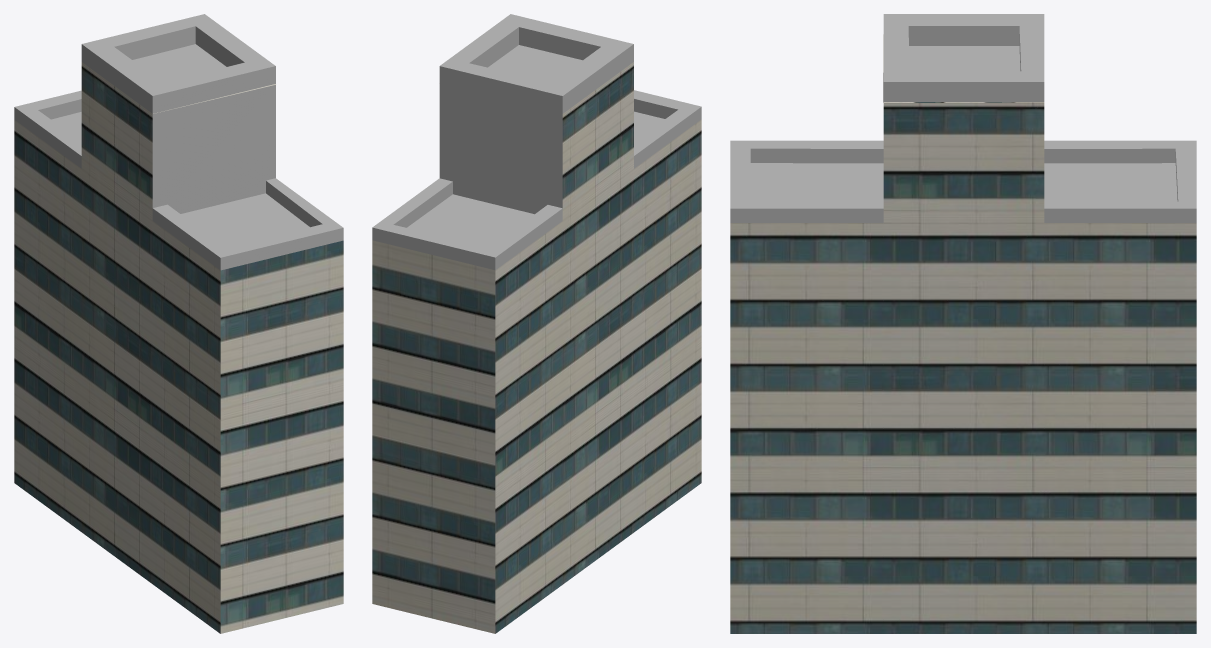
File: Building 7.fbx
3 renders of one model, left to right at view 1: azimuth 30°, elevation 25°; view 2: azimuth 150°, elevation 25°; view 3: azimuth 270°, elevation 25°, orthographic. The views are drawn at different scales.
Visible parts, largest first — view 1: pCube1; view 2: pCube1; view 3: pCube1.
Part boxes in pixels (x1,y1,x2,y2): pCube1: [14, 14, 343, 633]; pCube1: [372, 14, 701, 633]; pCube1: [730, 14, 1196, 633].
Bounding box in the file's own units: 0.01 × 0.0379 × 0.029.
3 materials, 1 textured.
